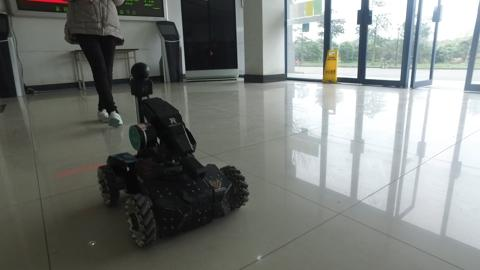chariot: (83, 58, 257, 254)
